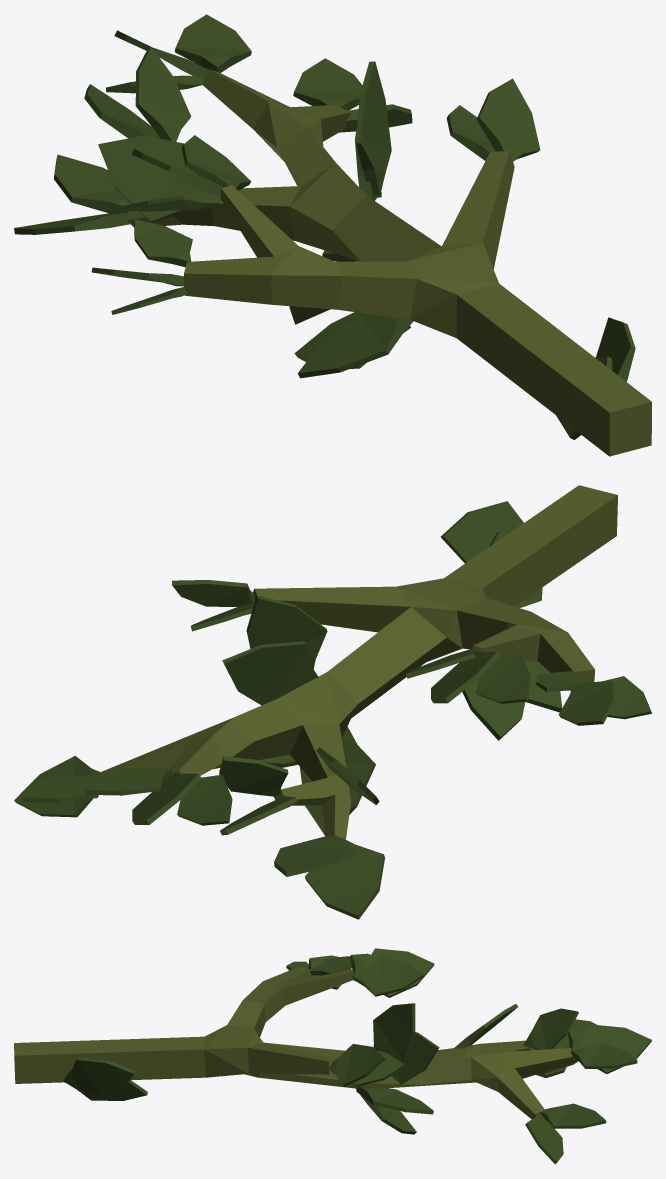
The model's file is tree_branch.gltf.
The picture shows the model from 3 angles, top to bottom: view 1: azimuth 30°, elevation 25°; view 2: azimuth 150°, elevation 25°; view 3: azimuth 270°, elevation 25°; orthographic projection. The views are drawn at different scales.
Visible parts, largest first — view 1: Tree_Branch; view 2: Tree_Branch; view 3: Tree_Branch.
Boxes of the visible parts, x1=… form: Tree_Branch: x1=14, y1=14, x2=651, y2=456; Tree_Branch: x1=14, y1=485, x2=651, y2=919; Tree_Branch: x1=14, y1=948, x2=651, y2=1164.
Size of the model in its own units: 0.3885 by 0.1827 by 0.6806.
Materials: 1 (1 with a texture image).
